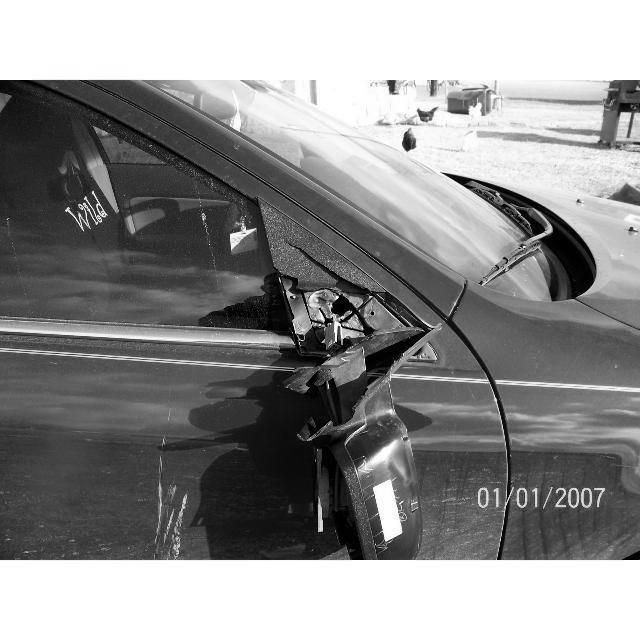Sidemirror-Damage: (193, 233, 436, 547)
